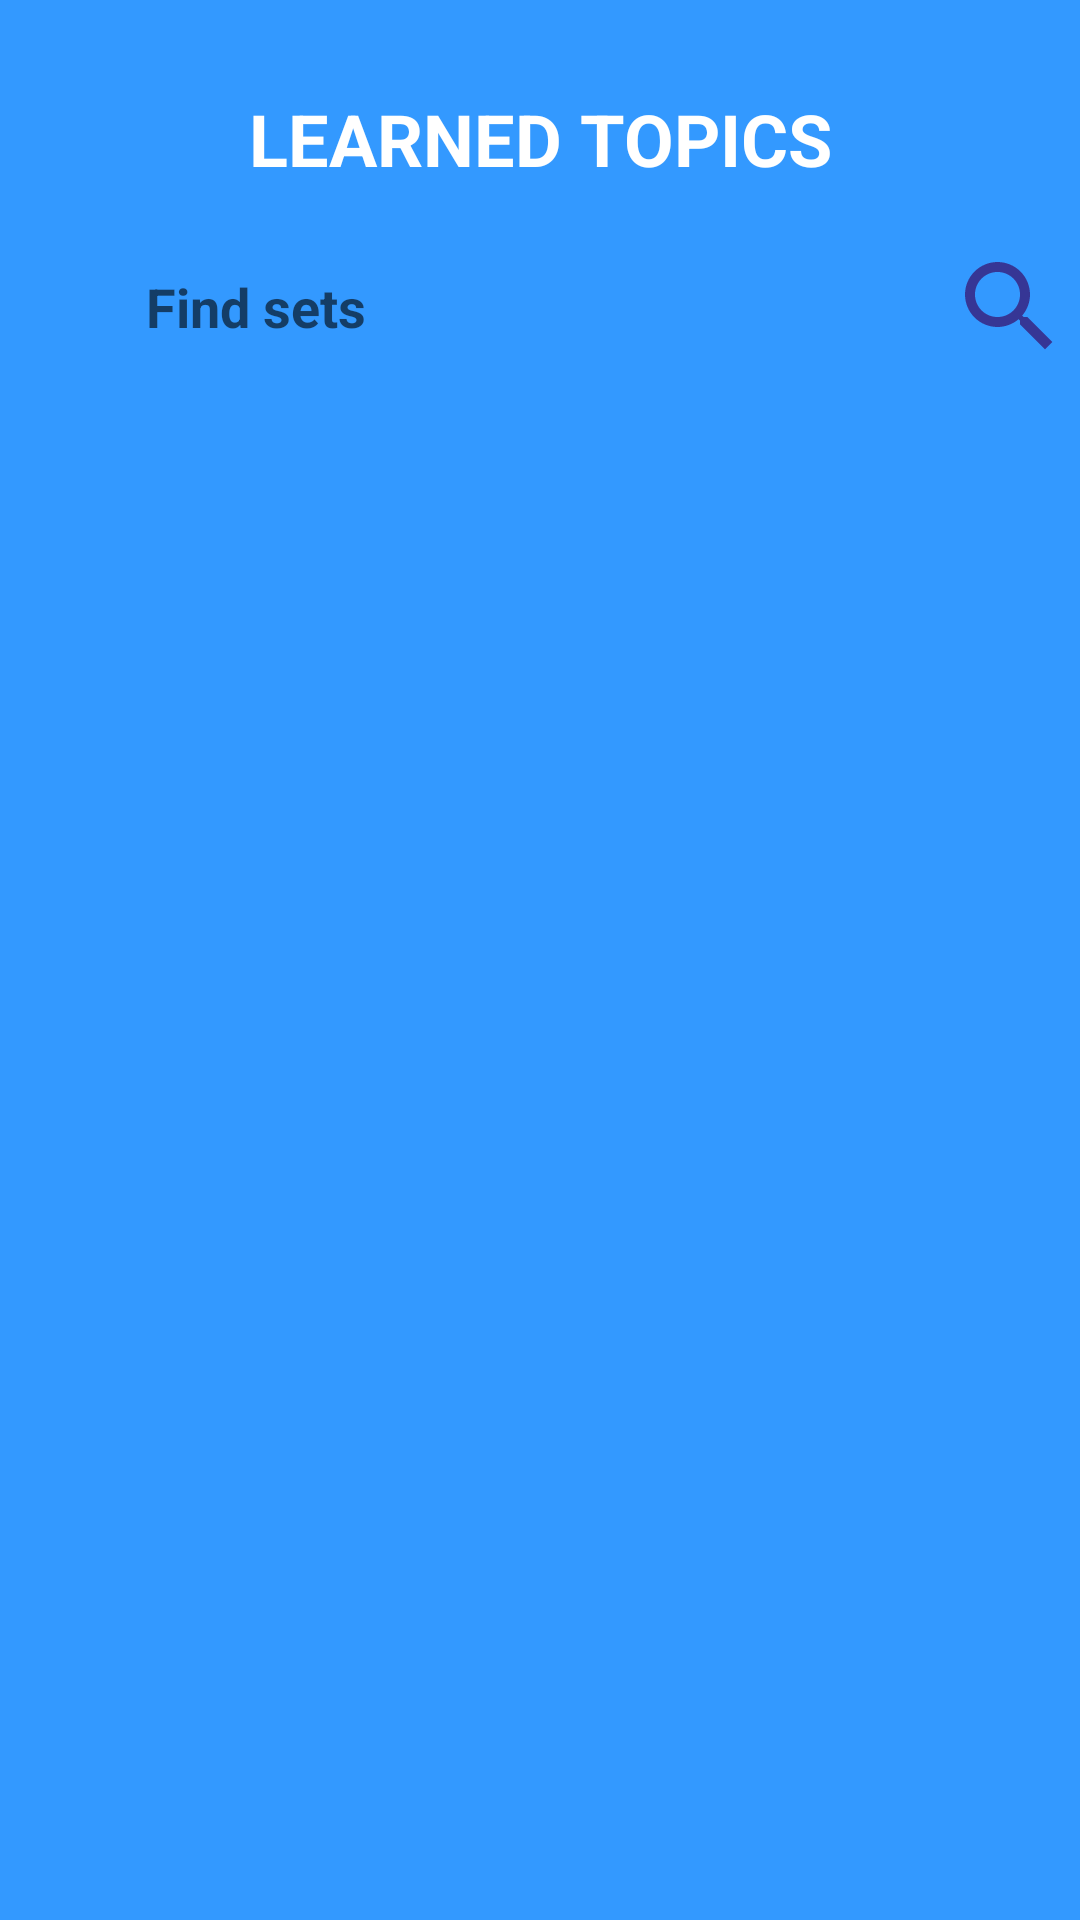

Screen size 1080 x 1920. Icon name, then its center in pixels as (x=x, y=y):
search: (x=1008, y=305)
